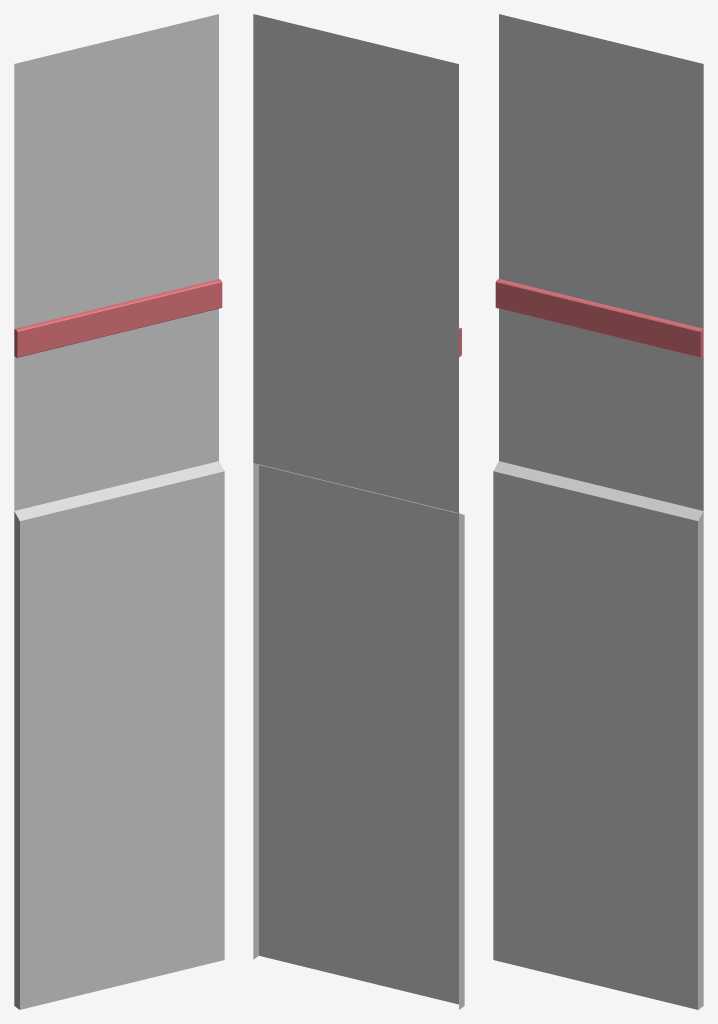
Rendered from Hallway_Wall.009.fbx.
3 views of the same model, side by side, from view 1: azimuth 30°, elevation 25°; view 2: azimuth 150°, elevation 25°; view 3: azimuth 330°, elevation 25° (orthographic).
Visible parts, largest first — view 1: Hallway_Wall.009; view 2: Hallway_Wall.009; view 3: Hallway_Wall.009.
Part boxes in pixels (box(x1,y1,x2,y2)): Hallway_Wall.009: box(14, 14, 224, 1009); Hallway_Wall.009: box(253, 14, 464, 1009); Hallway_Wall.009: box(493, 14, 703, 1009).
Bounding box in the file's own units: 62.53 × 275 × 2.92.
